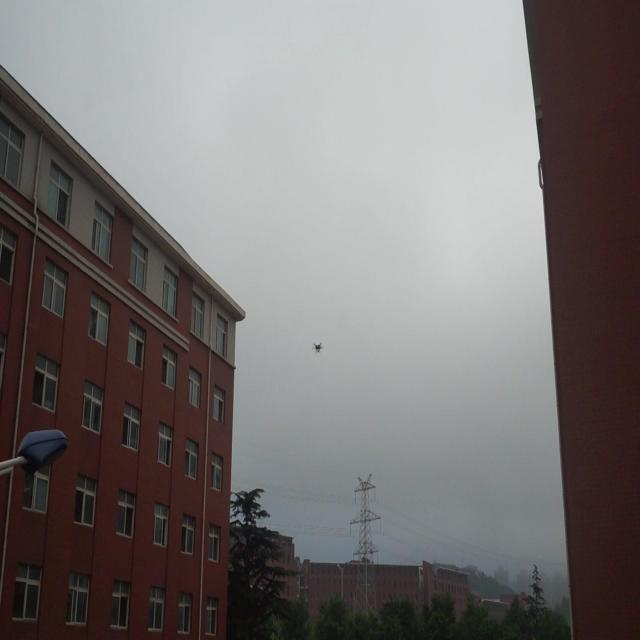UAV: (312, 342, 325, 354)
